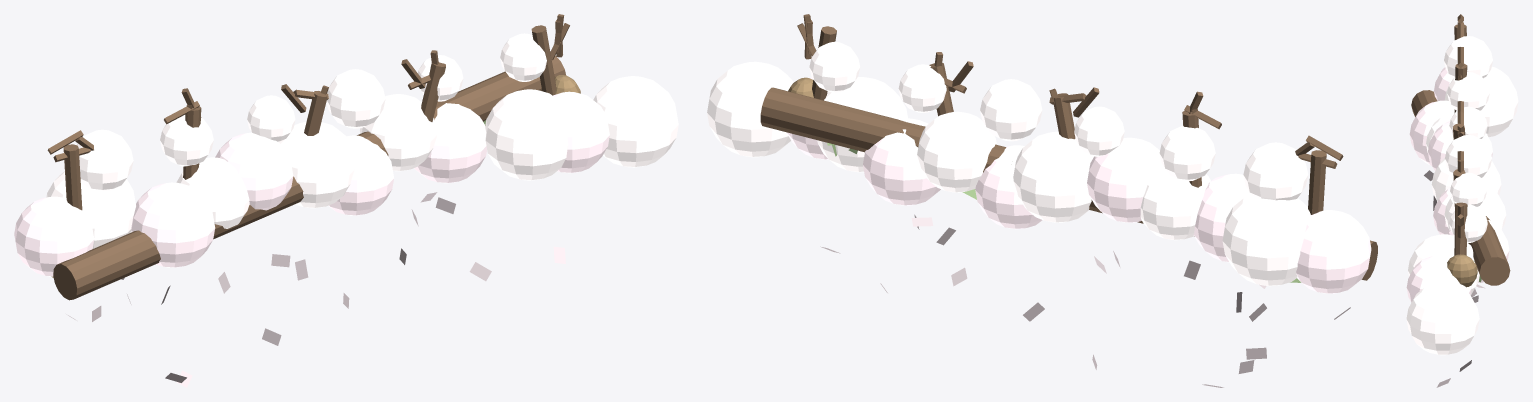
The model's file is cherry_branch_overhang.glb.
3 views of the same model, side by side, from view 1: azimuth 30°, elevation 25°; view 2: azimuth 150°, elevation 25°; view 3: azimuth 270°, elevation 25° (orthographic). The views are drawn at different scales.
Visible parts, largest first — view 1: cherry_branch_overhang; view 2: cherry_branch_overhang; view 3: cherry_branch_overhang.
Boxes of the visible parts, bbox=[...] form: cherry_branch_overhang: bbox=[14, 14, 678, 387]; cherry_branch_overhang: bbox=[707, 14, 1377, 387]; cherry_branch_overhang: bbox=[1406, 14, 1518, 387].
Bounding box in the file's own units: 3.78 × 1.63 × 0.7251.
